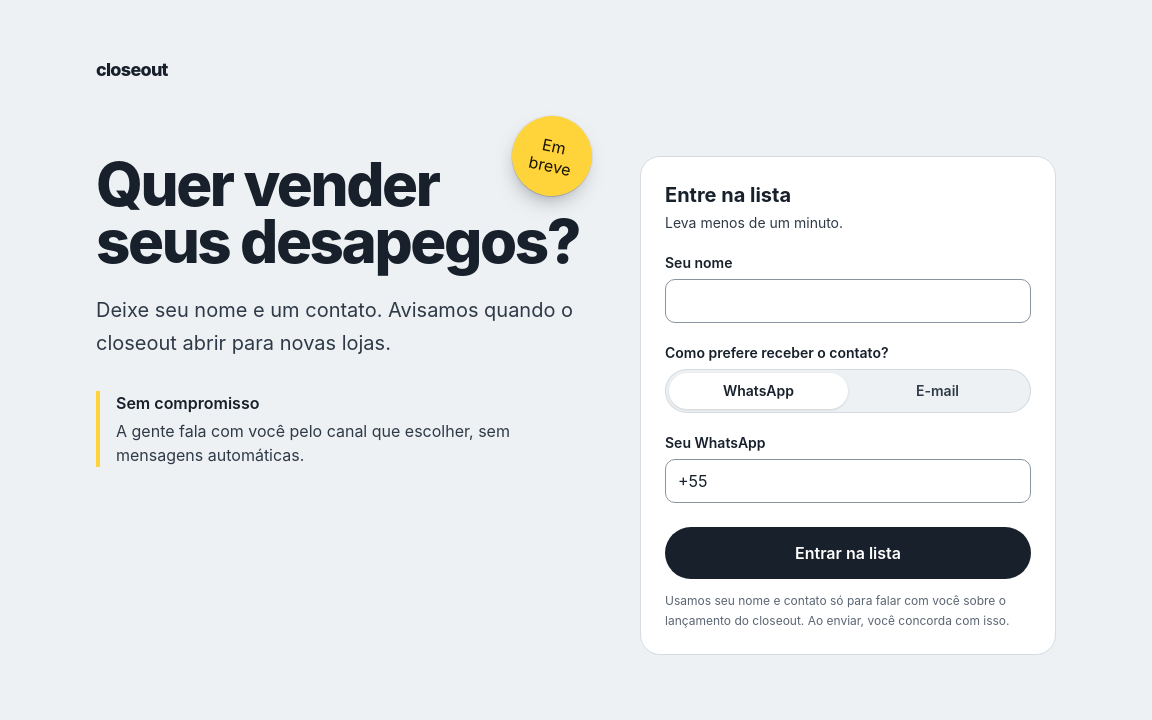
Test: WaitlistPage › offers the way back to a store that exists
Type "Ana" into the field labelled "Seu nome" at (848, 301), box [665,279,1031,323]
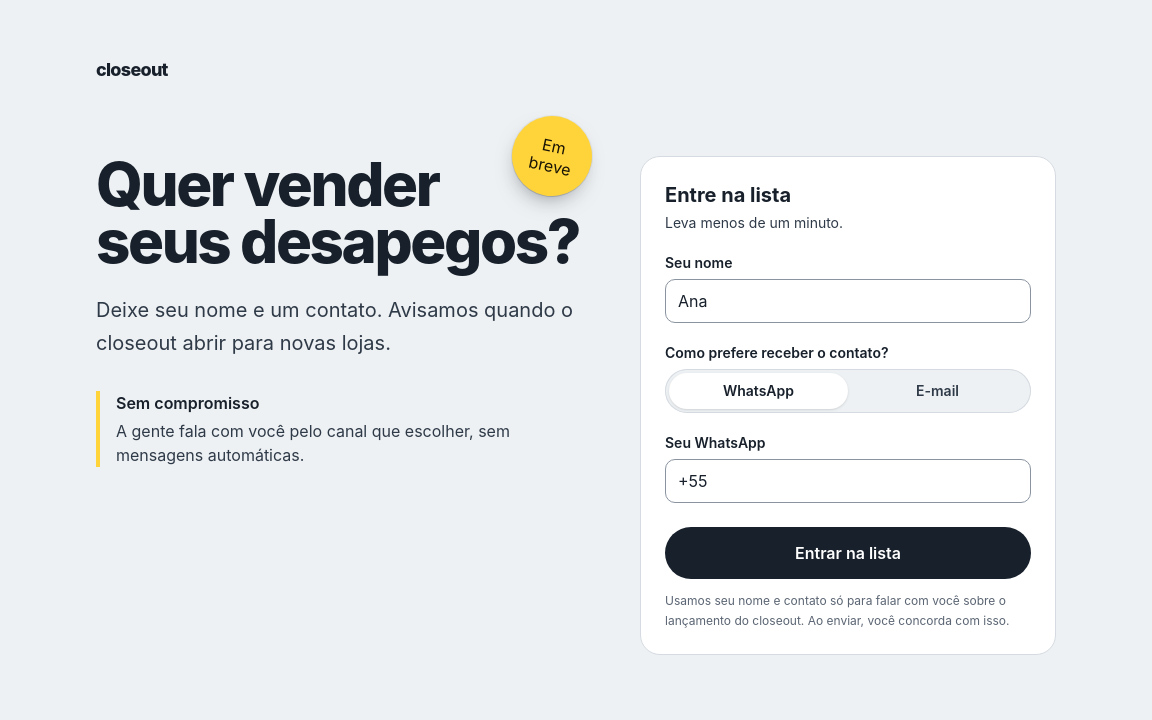
Replace the text in the field labelled "Seu WhatsApp" with "+55 11 99999-8888" at (848, 481), box [665,459,1031,503]
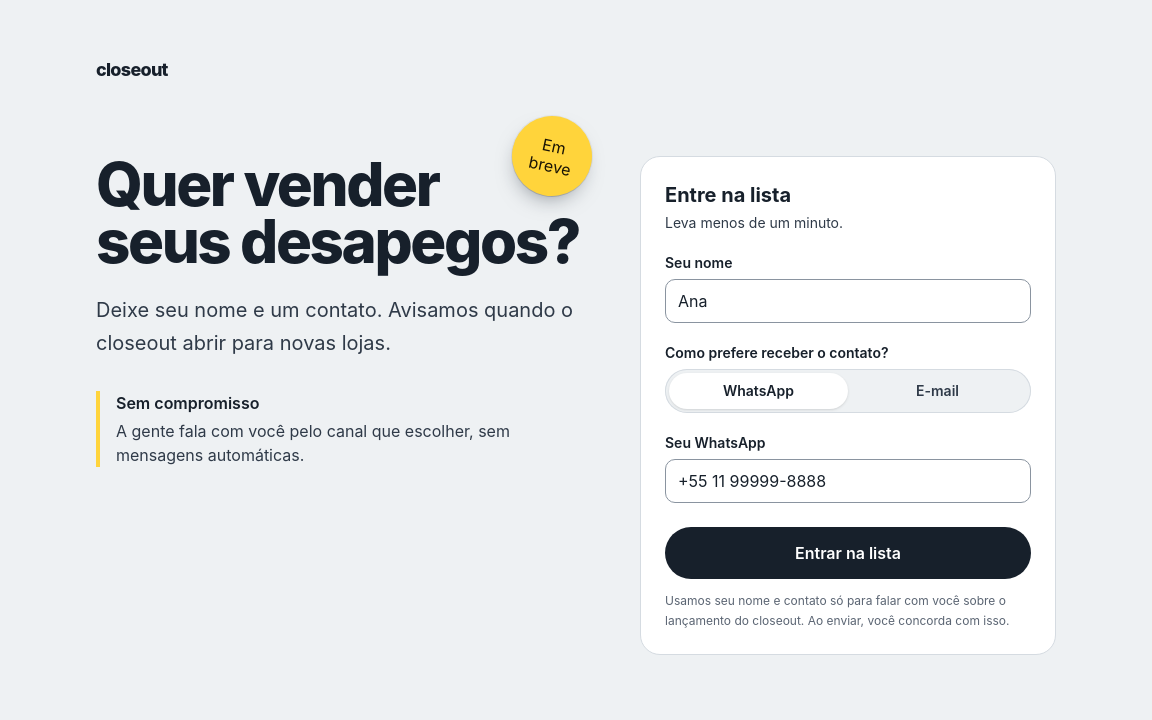
Click the button "Entrar na lista" at (848, 553), box [665,527,1031,579]
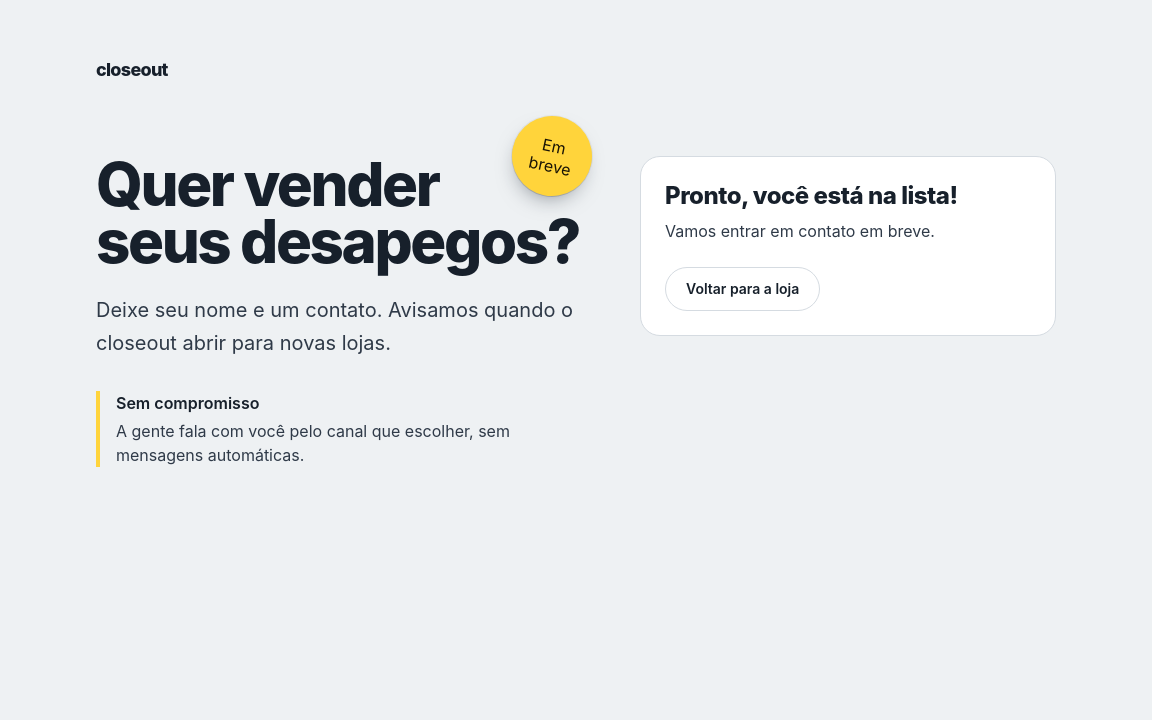
Expected: the heading "Pronto, você está na lista!" is shown, [665,181,958,210]
